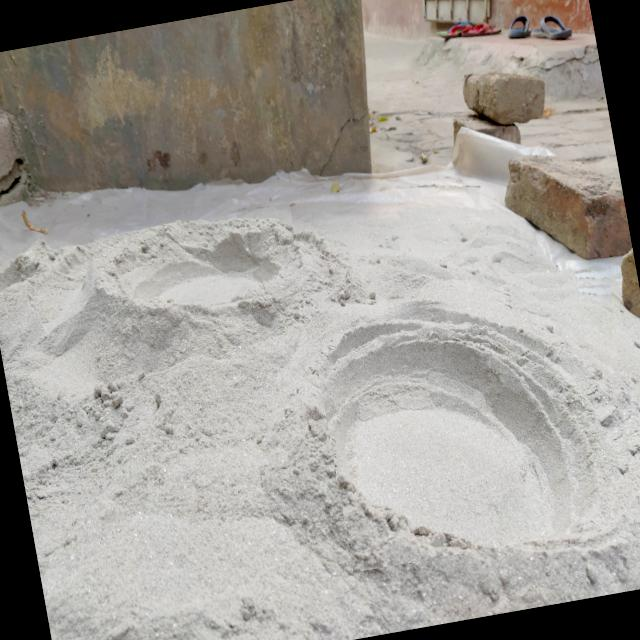C20: (322, 305, 626, 547), (114, 221, 295, 308)
